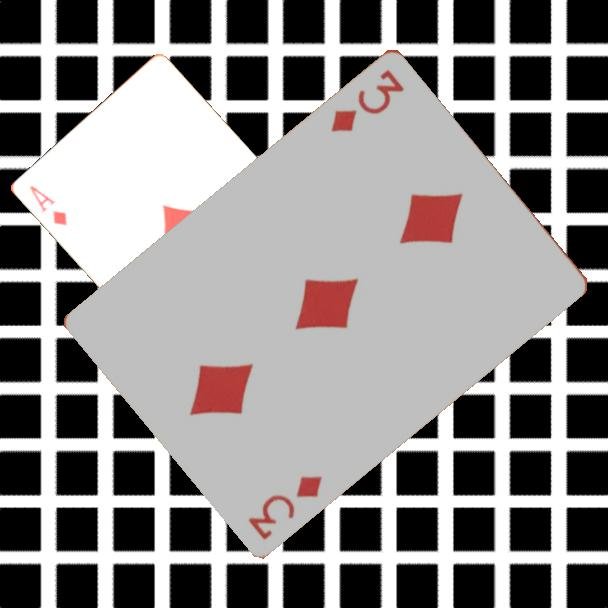d01: (26, 181, 69, 229)
d03: (244, 471, 325, 543), (327, 65, 408, 135)
